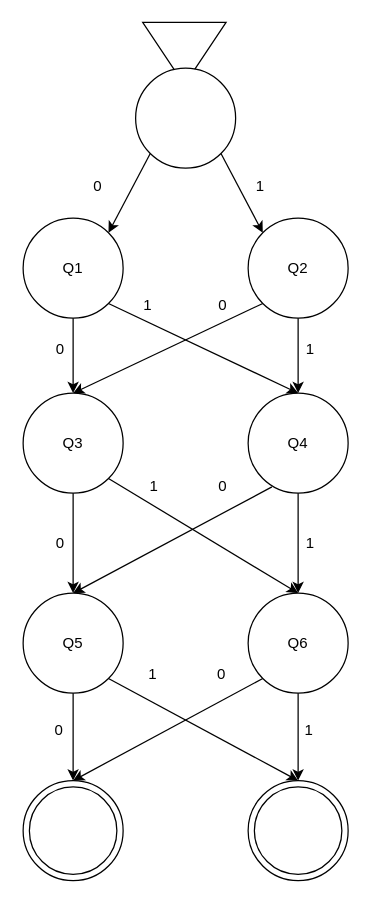
This 370x903 diagram has some shape labels left out. The shapes that lost their labels are listed below. From the top down, each one's centre as x and y in pixels, then its label:
[185,117]: Q0
[72,830]: Q7
[297,830]: Q8
